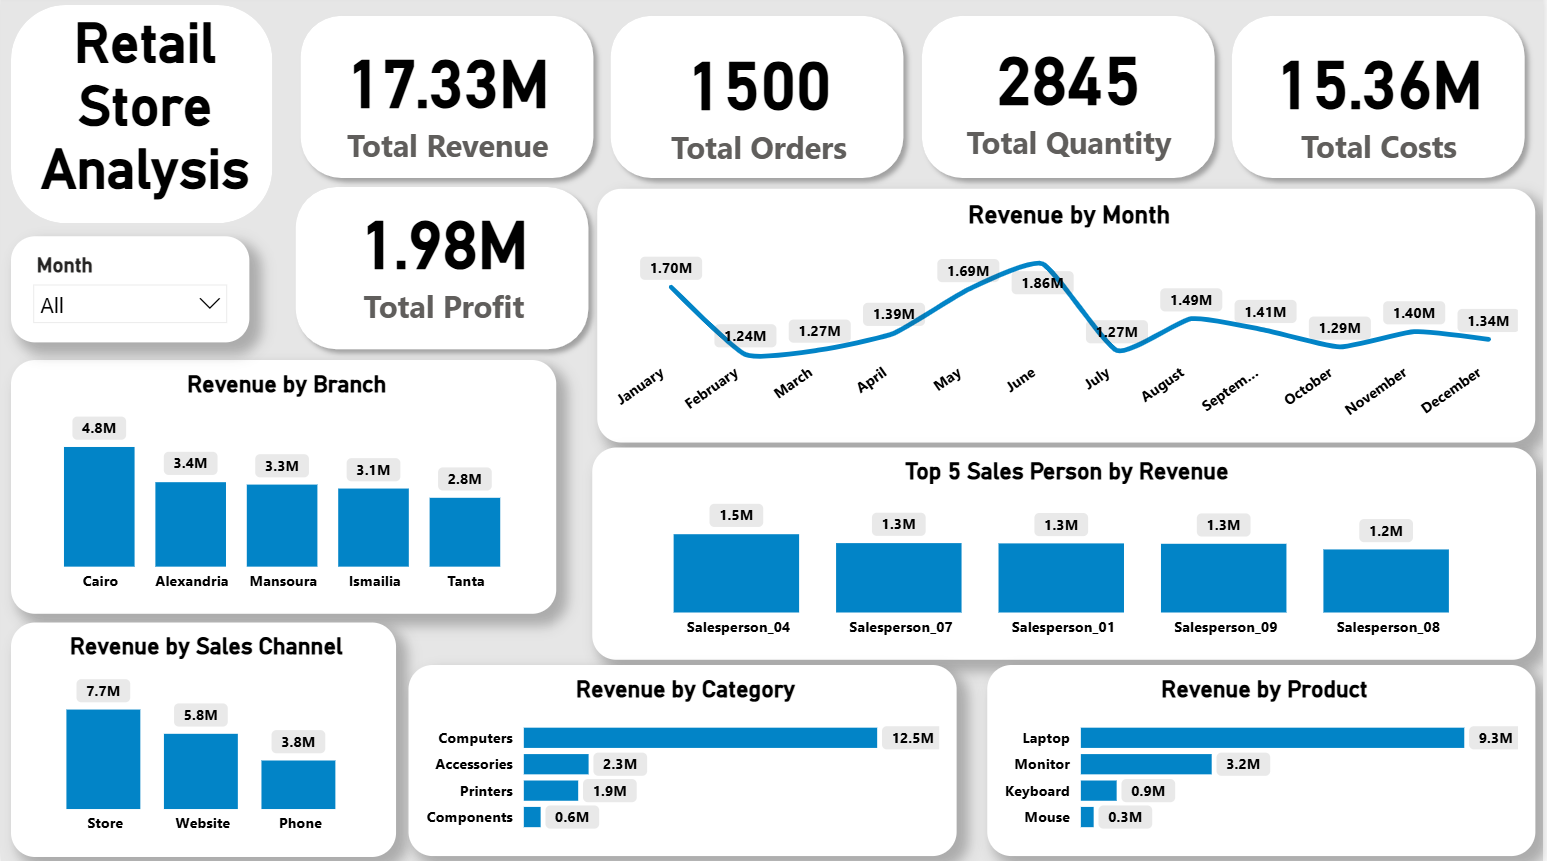

What the dashboard file says about the page in this screenshot:
{"tool":"powerbi","page":{"name":"Overview","canvas":[1280,720],"ordinal":0},"visuals":[{"type":"shape","box":[496.8,8.3,260.7,152.4],"z":0},{"type":"shape","box":[239.3,8.3,260.7,152.4],"z":1000},{"type":"shape","box":[8.3,8.3,216.7,181],"z":2000},{"type":"textbox","title":"Retail Store Analysis","box":[0,13.1,239.3,189.3],"z":3000},{"type":"card","fields":{"Values":["Measures (2).Total Revenue"]},"box":[251.2,0,239.3,167.9],"z":4000},{"type":"shape","box":[1011.9,8.3,260.7,152.4],"z":5000},{"type":"shape","box":[235.7,150,260.7,152.4],"z":6000},{"type":"shape","box":[754.4,8.3,260.7,152.4],"z":7000},{"type":"card","fields":{"Values":["Measures (2).Total Orders"]},"box":[508.3,0,239.3,171.4],"z":8000},{"type":"card","fields":{"Values":["Measures (2).Total Quantity"]},"box":[765.5,0,239.3,163.1],"z":9000},{"type":"card","fields":{"Values":["Measures (2).Total Costs"]},"box":[1022.6,0,239.3,169],"z":10000},{"type":"card","fields":{"Values":["Measures (2).Total Profit"]},"box":[247.6,122.6,239.3,189.3],"z":11000},{"type":"lineChart","title":"Revenue by Year","fields":{"Y":["Measures (2).Total Revenue"],"Category":["data_detective_sales_training.Month.Variation.Date Hierarchy.Month"]},"box":[494.5,160.5,777.9,210.5],"z":12000},{"type":"columnChart","title":"Revenue by Branch","fields":{"Y":["Measures (2).Total Revenue"],"Category":["data_detective_sales_training.Branch"]},"box":[8.3,302.4,452.4,210.7],"z":13000},{"type":"columnChart","title":"Revenue by Sales Person","fields":{"Y":["Measures (2).Total Revenue"],"Category":["data_detective_sales_training.Salesperson"]},"box":[490.3,375.3,782.1,176.2],"z":14000},{"type":"slicer","fields":{"Values":["data_detective_sales_training.Month Name"]},"box":[8.3,200,197.6,88.1],"z":15000},{"type":"columnChart","title":"Revenue by Sales Channel","fields":{"Y":["Measures (2).Total Revenue"],"Category":["data_detective_sales_training.Sales_Channel"]},"box":[8.3,520.2,319,194],"z":16000},{"type":"barChart","title":"Revenue by Category","fields":{"Category":["data_detective_sales_training.Category"],"Y":["Measures (2).Total Revenue"]},"box":[338.1,556,454.8,158.3],"z":17000},{"type":"barChart","title":"Revenue by Product","fields":{"Y":["Measures (2).Total Revenue"],"Category":["data_detective_sales_training.Product"]},"box":[817.7,556,454.8,158.3],"z":18000}]}

Visuals, with their boxes in screenshot pixels (x1, y1, x2, y2), scaled from the page's 1280x720 canvas onto the 1547x861 screenshot:
shape: (600, 10, 916, 192)
shape: (289, 10, 604, 192)
shape: (10, 10, 272, 226)
"Retail Store Analysis" textbox: (0, 16, 289, 242)
card - Measures (2).Total Revenue: (304, 0, 593, 201)
shape: (1223, 10, 1538, 192)
shape: (285, 179, 600, 362)
shape: (912, 10, 1227, 192)
card - Measures (2).Total Orders: (614, 0, 904, 205)
card - Measures (2).Total Quantity: (925, 0, 1214, 195)
card - Measures (2).Total Costs: (1236, 0, 1525, 202)
card - Measures (2).Total Profit: (299, 147, 588, 373)
"Revenue by Year" lineChart: (598, 192, 1538, 444)
"Revenue by Branch" columnChart: (10, 362, 557, 614)
"Revenue by Sales Person" columnChart: (593, 449, 1538, 660)
slicer - data_detective_sales_training.Month Name: (10, 239, 249, 345)
"Revenue by Sales Channel" columnChart: (10, 622, 396, 854)
"Revenue by Category" barChart: (409, 665, 958, 854)
"Revenue by Product" barChart: (988, 665, 1538, 854)
